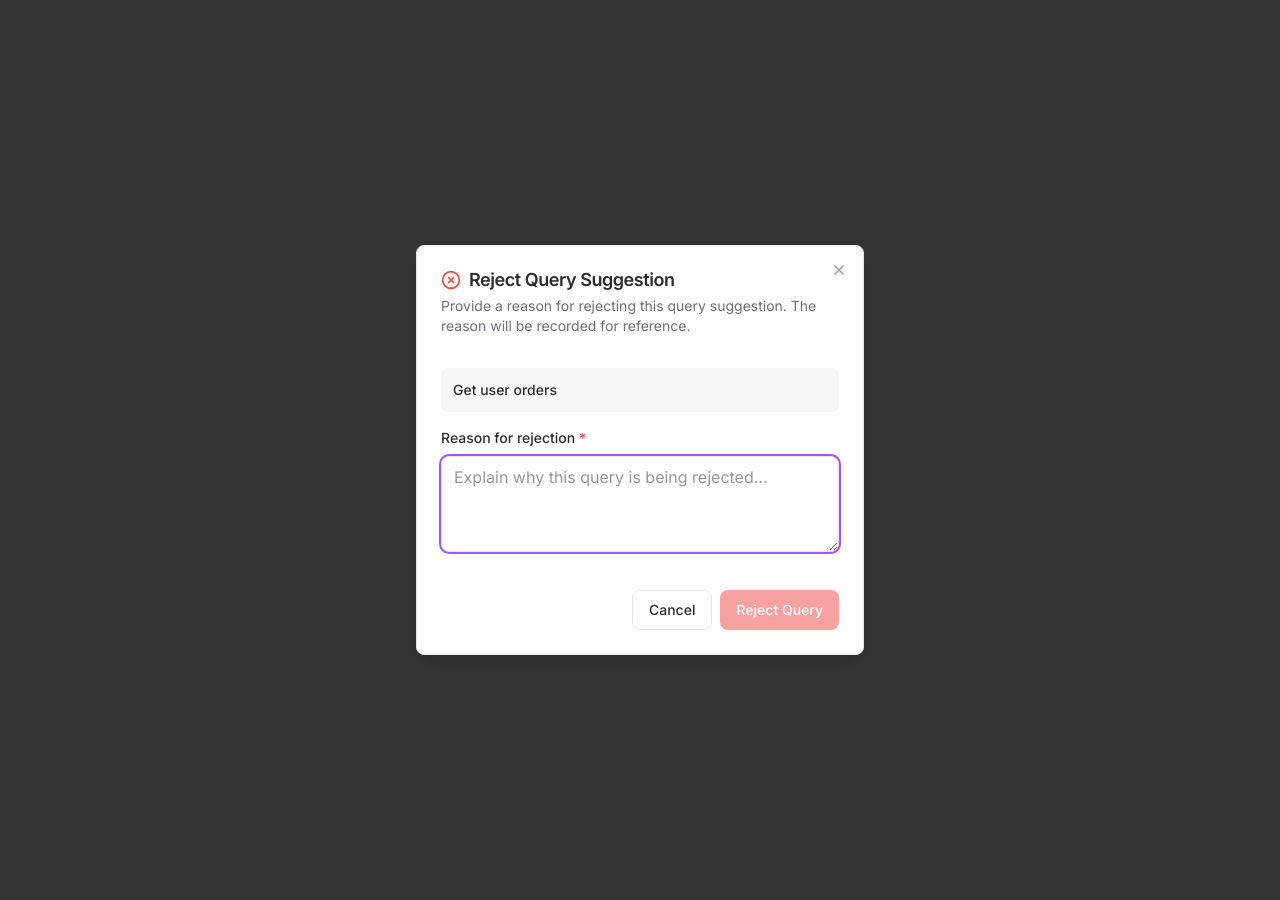
Test: RejectionReasonDialog › shows loading state while rejecting
This screenshot has width=1280, height=900.
Type "Security concern" into the text box with placeholder "Explain why this query is being rejected..." at coordinates (640, 504), box [441,456,839,552]
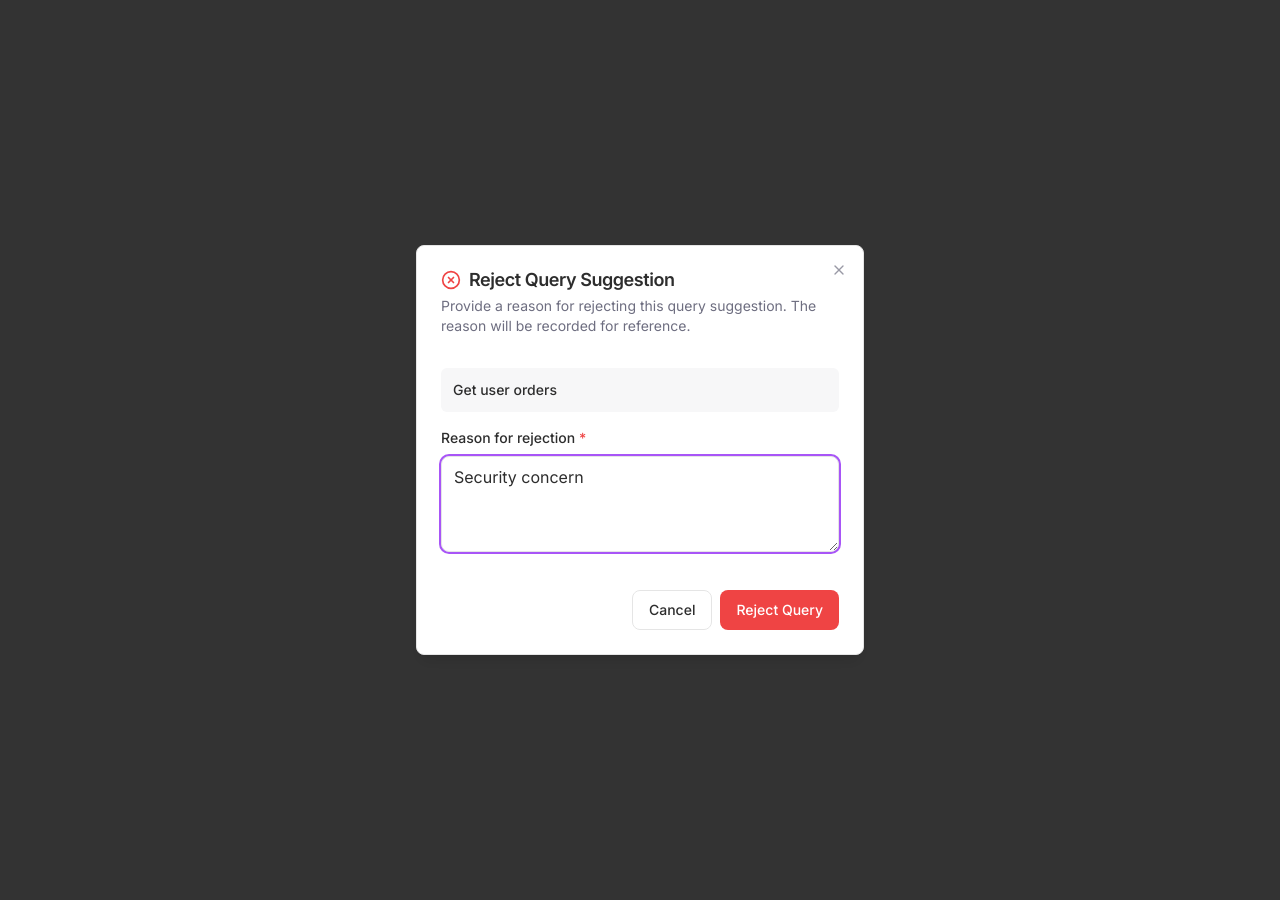
Click the button "Reject Query" at coordinates (780, 610), box [720,590,839,630]
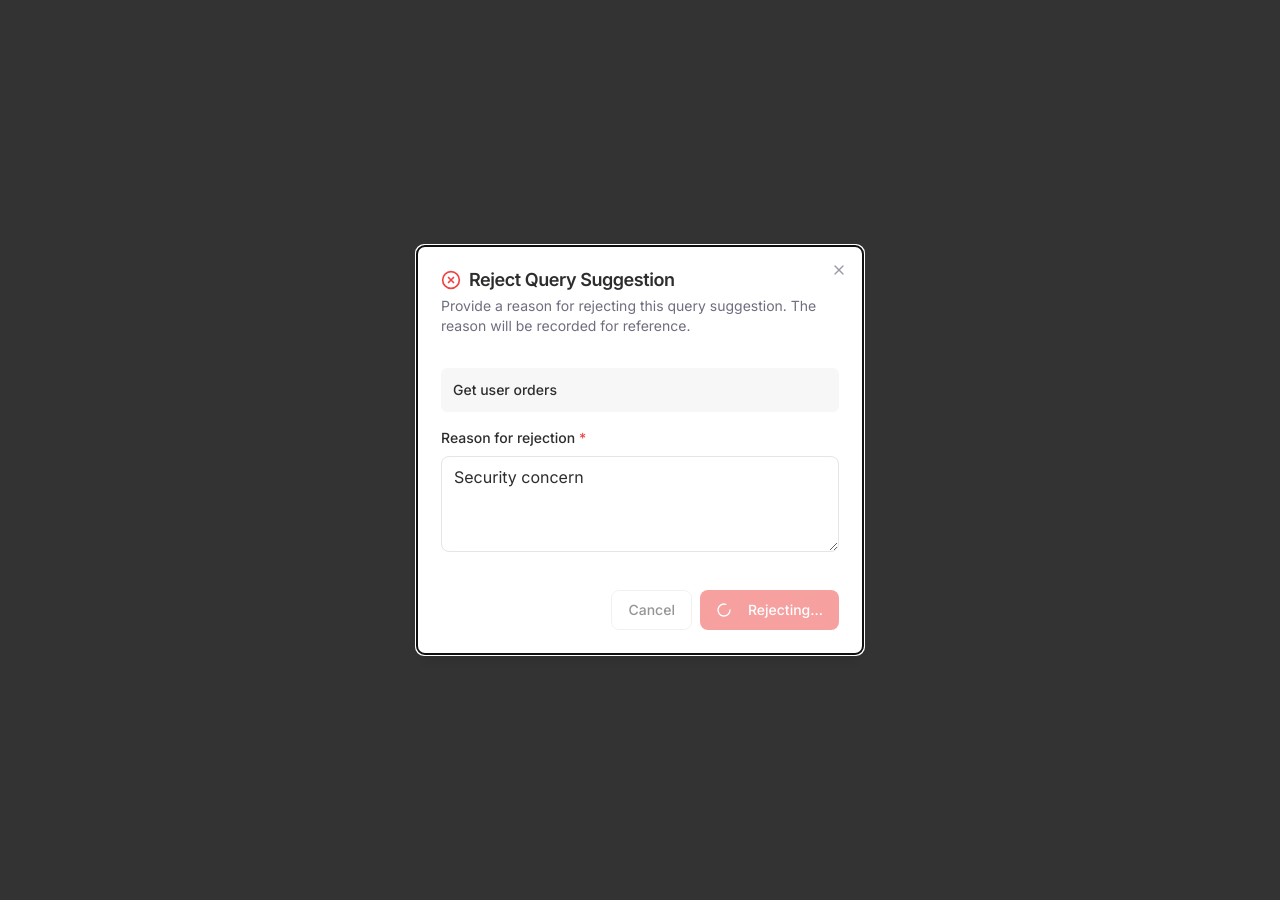
Expected: the button "Rejecting..." is disabled, [700,590,839,630]
Expected: the button "Cancel" is disabled, [612,590,692,630]
